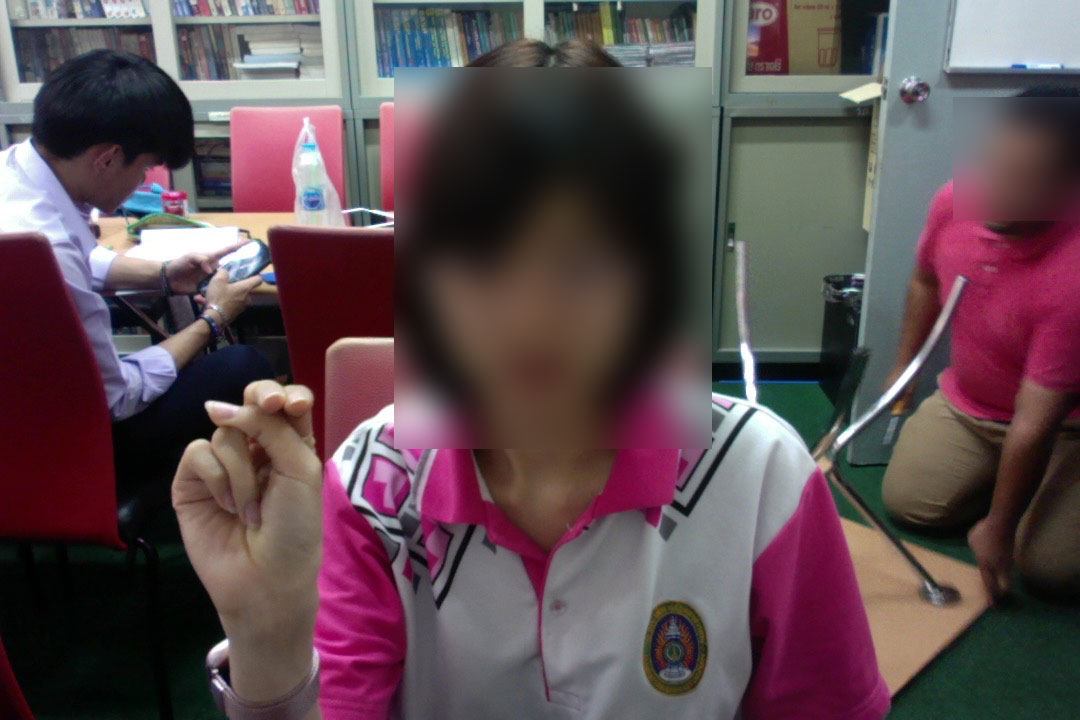nor: (155, 371, 331, 638)
